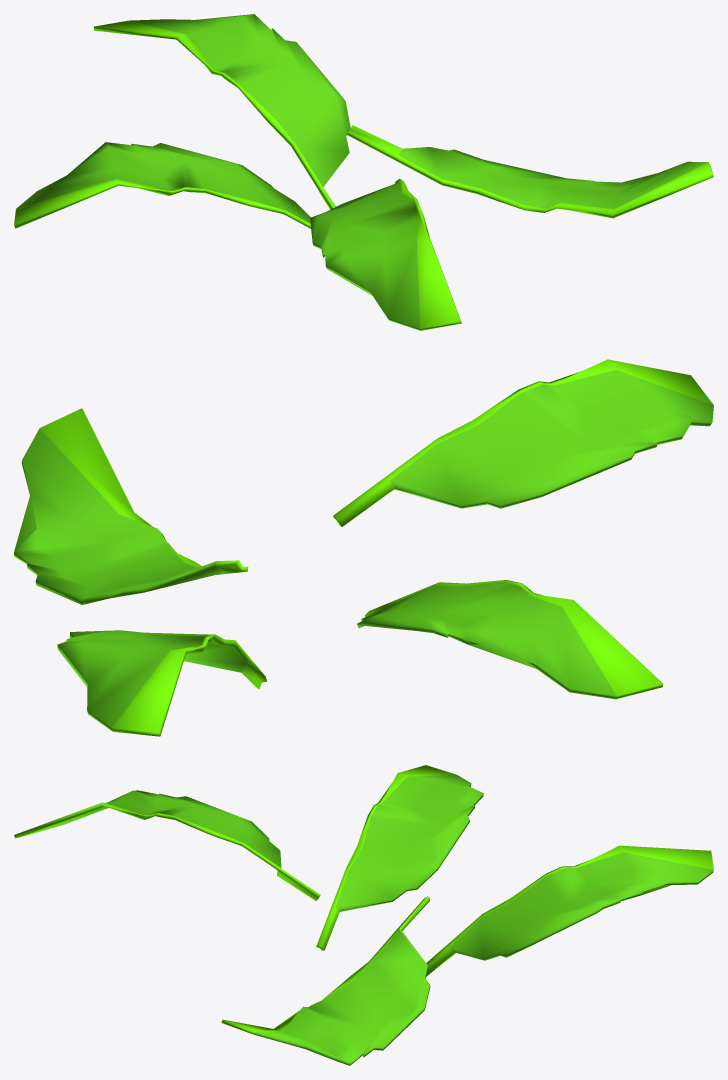
The model's file is basil_2.fbx.
3 renders of one model, top to bottom at view 1: azimuth 30°, elevation 25°; view 2: azimuth 150°, elevation 25°; view 3: azimuth 270°, elevation 25°, orthographic. The views are drawn at different scales.
Visible parts, largest first — view 1: basil.005; view 2: basil.005; view 3: basil.005.
Part boxes in pixels (bbox=[...]): basil.005: bbox=[14, 14, 713, 330]; basil.005: bbox=[14, 359, 713, 736]; basil.005: bbox=[14, 765, 713, 1065].
Bounding box in the file's own units: 168 × 42.08 × 194.
